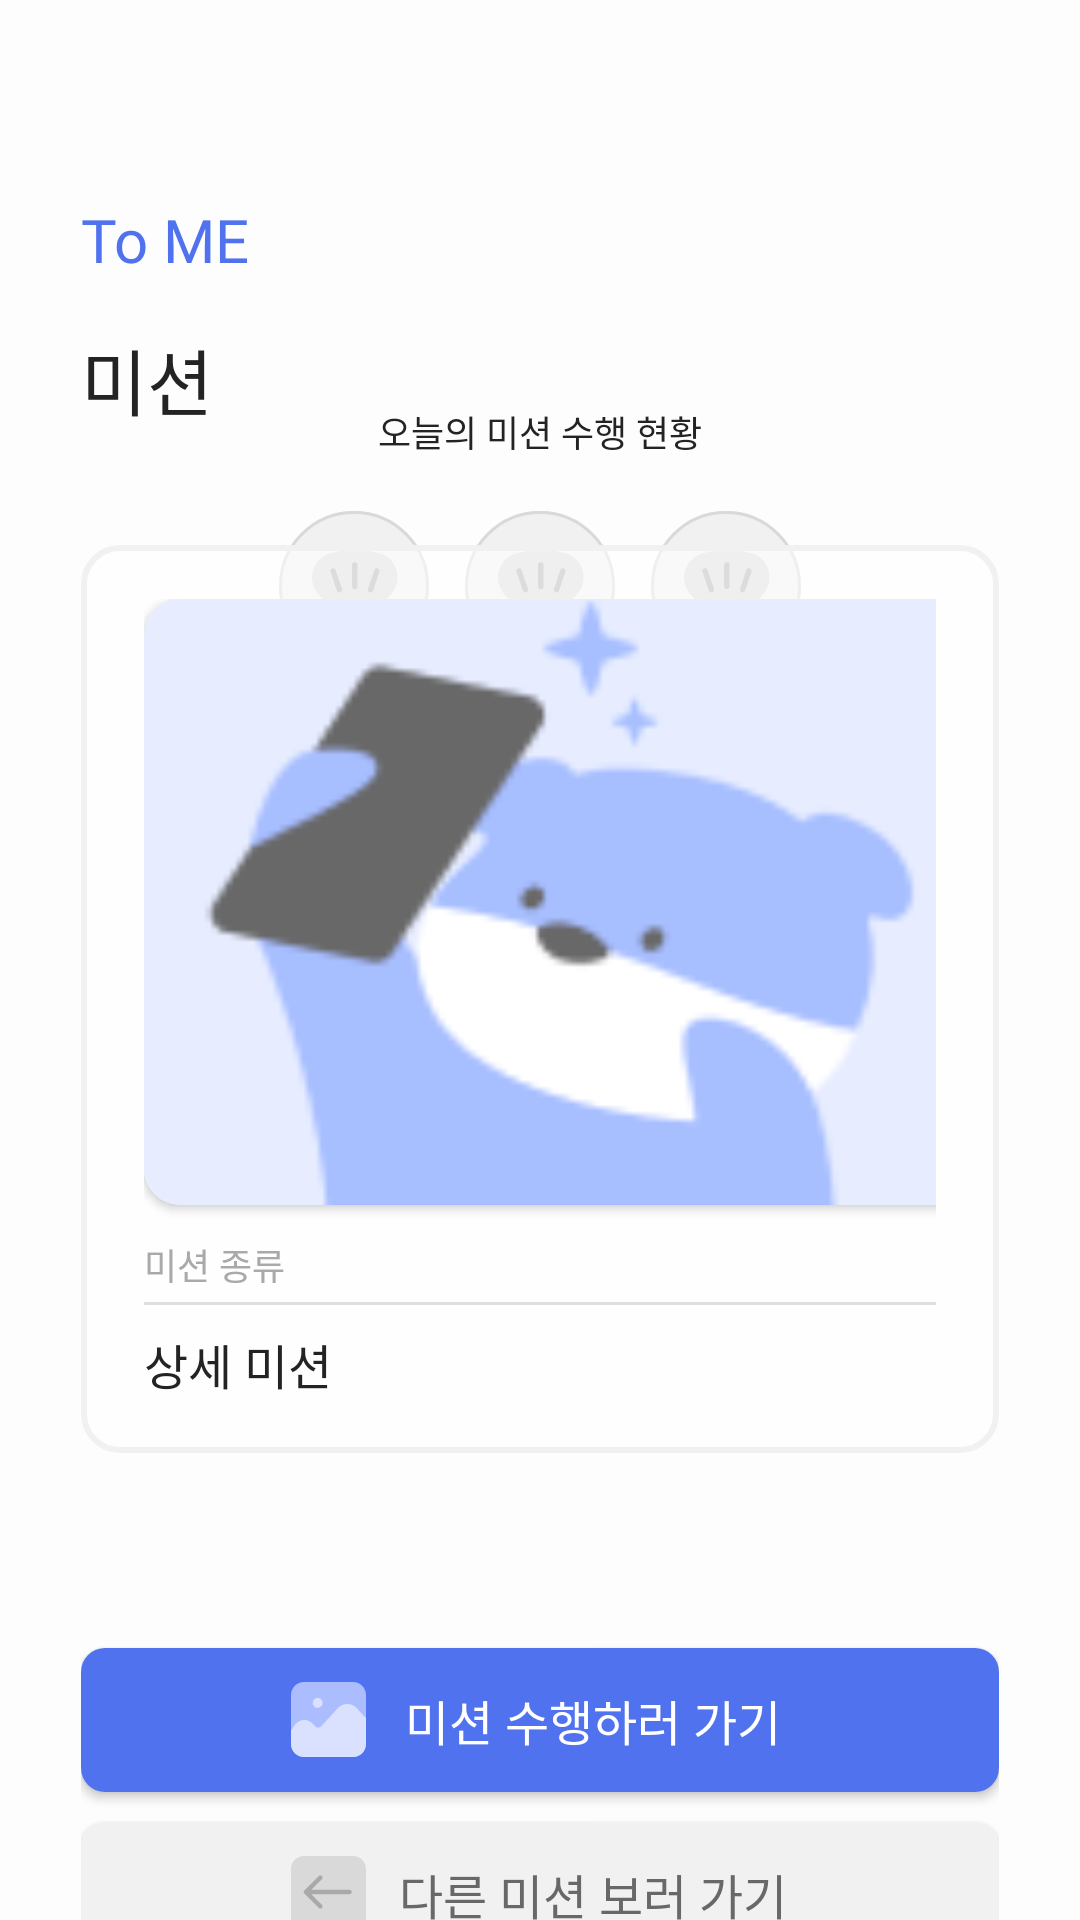

Named icons in this screenshot (1080w x 1920h) and their bounding boxes, (x1, y1, x2, y2):
mission uncomplete: (261, 511, 447, 679), (447, 511, 633, 679), (633, 511, 819, 679)
